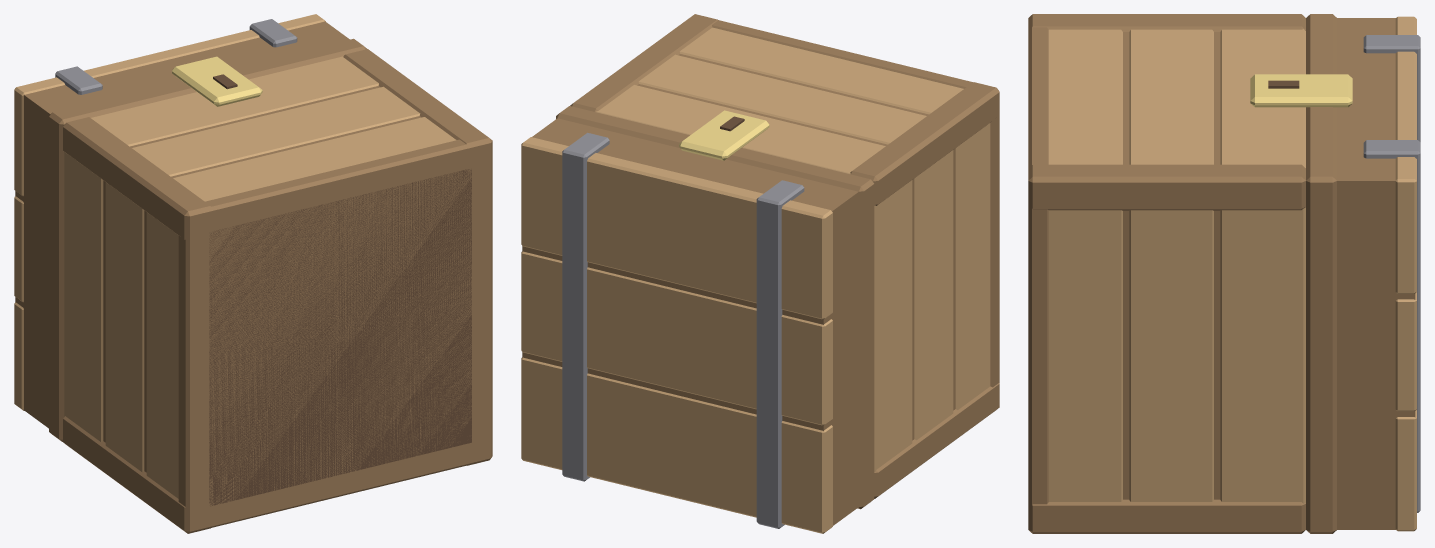
File: box_held.gltf
3 renders of one model, left to right at view 1: azimuth 30°, elevation 25°; view 2: azimuth 150°, elevation 25°; view 3: azimuth 270°, elevation 25°, orthographic. The views are drawn at different scales.
Visible parts, largest first — view 1: chest_box_held; view 2: chest_box_held; view 3: chest_box_held.
Part boxes in pixels (bbox=[...]): chest_box_held: bbox=[14, 14, 492, 533]; chest_box_held: bbox=[521, 14, 999, 533]; chest_box_held: bbox=[1028, 14, 1420, 533].
Bounding box in the file's own units: 0.1419 × 0.1477 × 0.1413.
